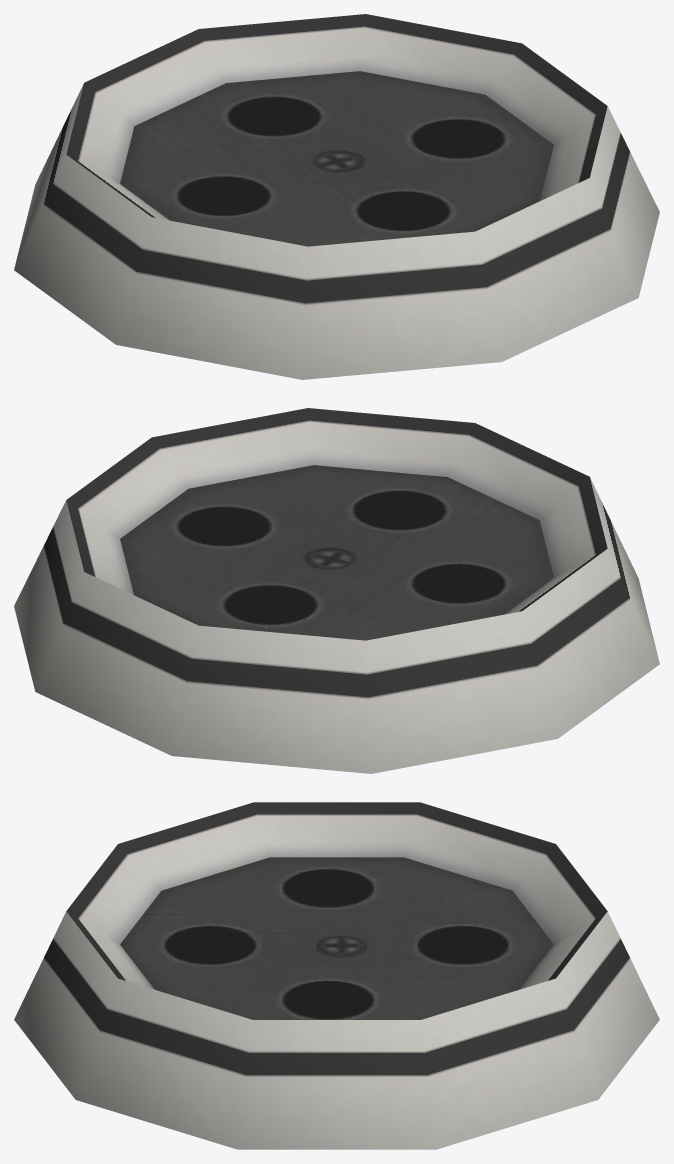
File: nt_electrical_outlet_LOD1.obj
3 renders of one model, top to bottom at view 1: azimuth 30°, elevation 25°; view 2: azimuth 150°, elevation 25°; view 3: azimuth 270°, elevation 25°, orthographic. The views are drawn at different scales.
Visible parts, largest first — view 1: mtl_nt_electrical_oulet; view 2: mtl_nt_electrical_oulet; view 3: mtl_nt_electrical_oulet.
Boxes of the visible parts, x1=… form: mtl_nt_electrical_oulet: x1=14, y1=14, x2=659, y2=379; mtl_nt_electrical_oulet: x1=14, y1=408, x2=659, y2=773; mtl_nt_electrical_oulet: x1=14, y1=802, x2=659, y2=1149.
Size of the model in its own units: 13.66 by 2.66 by 14.36.
